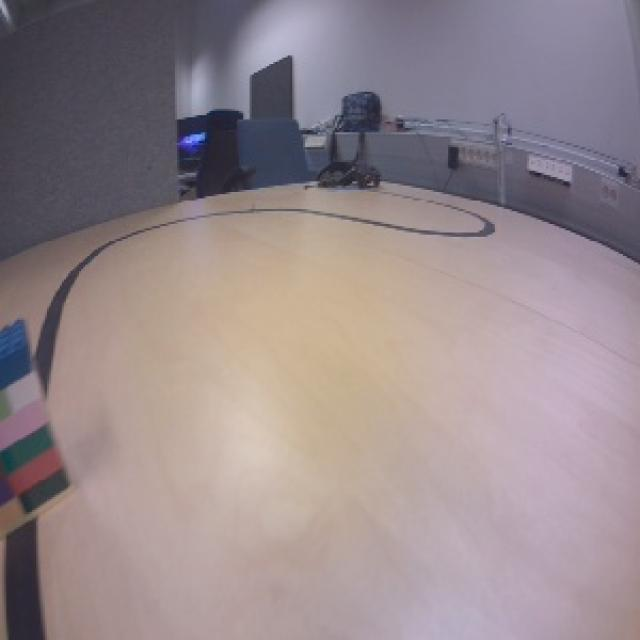obstacle: (0, 317, 75, 544)
